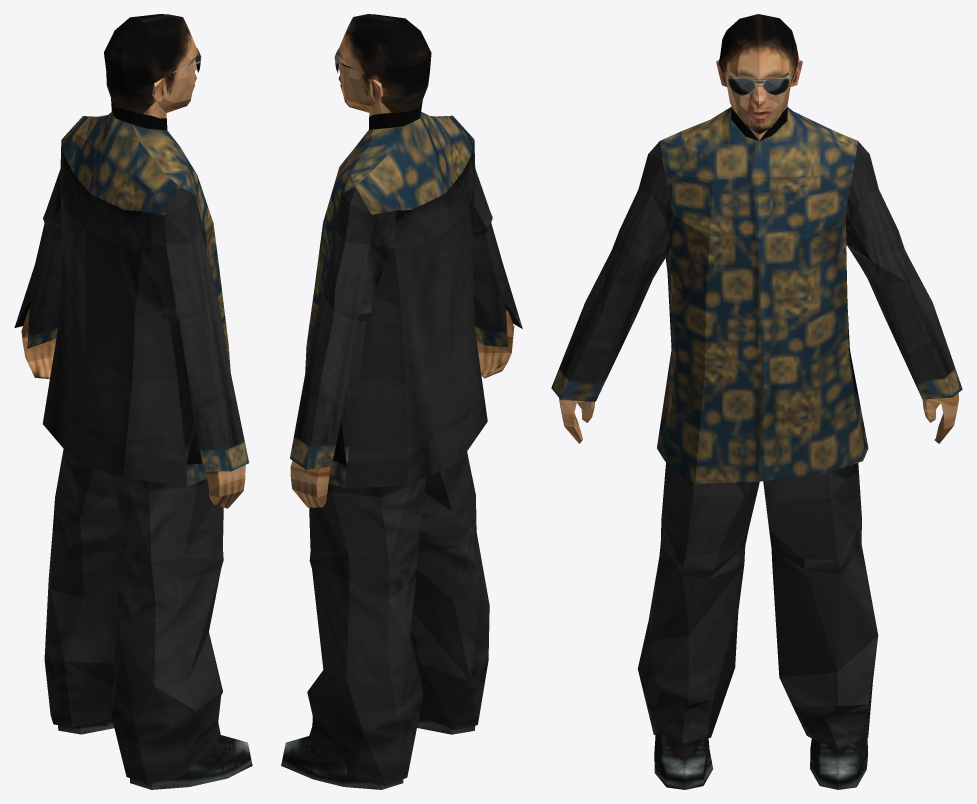
The model's file is dnb3.obj.
The picture shows the model from 3 angles, left to right: view 1: azimuth 30°, elevation 25°; view 2: azimuth 150°, elevation 25°; view 3: azimuth 270°, elevation 25°; orthographic projection.
Visible parts, largest first — view 1: _Pelvis; view 2: _Pelvis; view 3: _Pelvis.
Part boxes in pixels (x1,y1,x2,y2): _Pelvis: [14, 14, 252, 789]; _Pelvis: [281, 14, 522, 789]; _Pelvis: [551, 14, 962, 789].
Size of the model in its own units: 0.3851 by 1.89 by 0.9478.
1 material, 1 textured.
